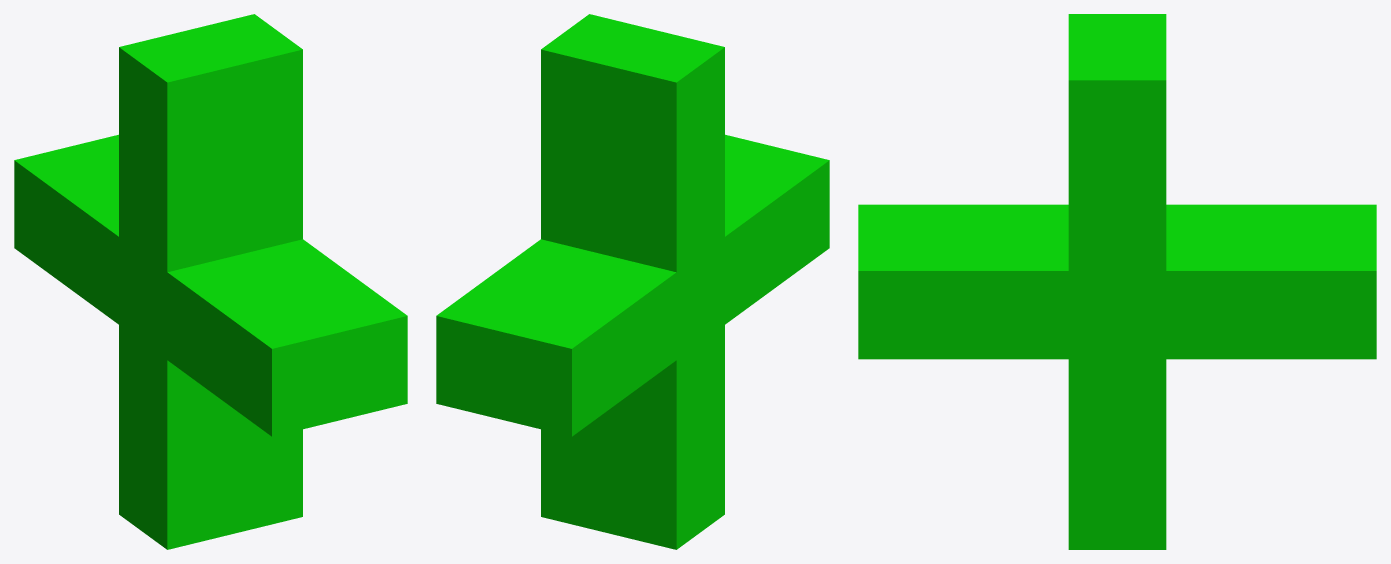
File: HealthRefresh_Symbol.fbx
3 views of the same model, side by side, from view 1: azimuth 30°, elevation 25°; view 2: azimuth 150°, elevation 25°; view 3: azimuth 270°, elevation 25° (orthographic).
Parts seen in each view (by area): view 1: pCube3; view 2: pCube3; view 3: pCube3.
Part boxes in pixels (x1,y1,x2,y2): pCube3: (14,14,407,549); pCube3: (436,14,829,549); pCube3: (858,14,1376,549).
Size of the model in its own units: 0.424 by 1.4 by 1.4.
